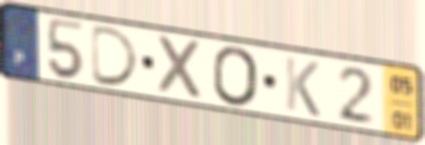2: (335, 64, 377, 128)
5: (44, 15, 87, 82)
D: (89, 23, 143, 89)
K: (283, 54, 322, 120)
O: (210, 45, 261, 109)
X: (155, 32, 206, 103)
